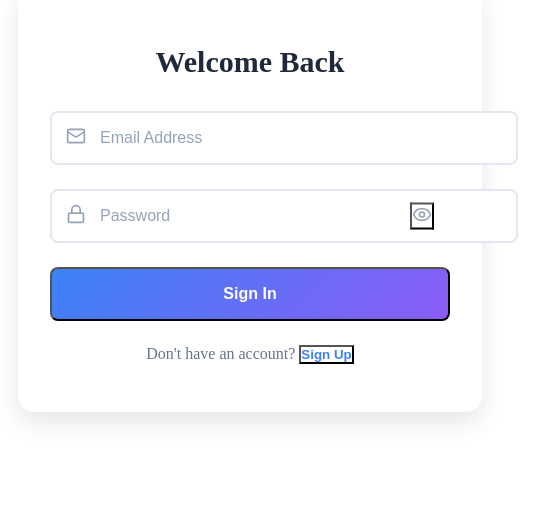
AuthForm › toggles between login and register modes
Expected: the button with test id "auth-submit" is shown, [50, 267, 450, 321]
Click the button with test id "auth-toggle" at {"x": 326, "y": 354}, box [299, 345, 354, 364]
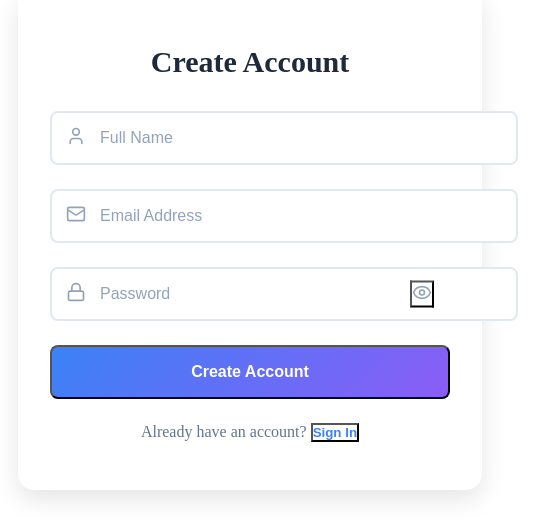
Now the button with test id "auth-toggle" reads "Sign In"
Click the button with test id "auth-toggle" at {"x": 335, "y": 432}, box [311, 423, 359, 442]
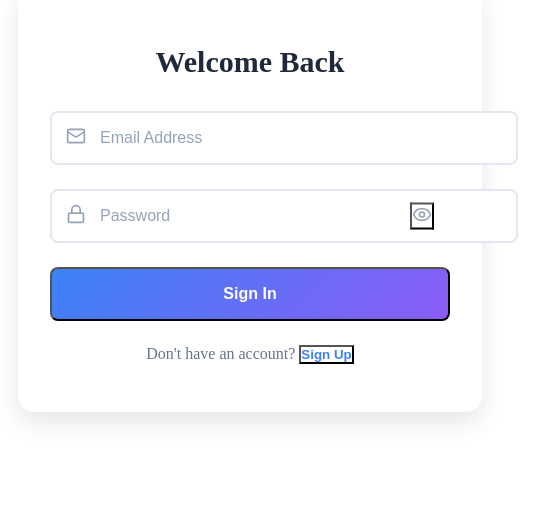
Now the button with test id "auth-toggle" reads "Sign Up", box [299, 345, 354, 364]
